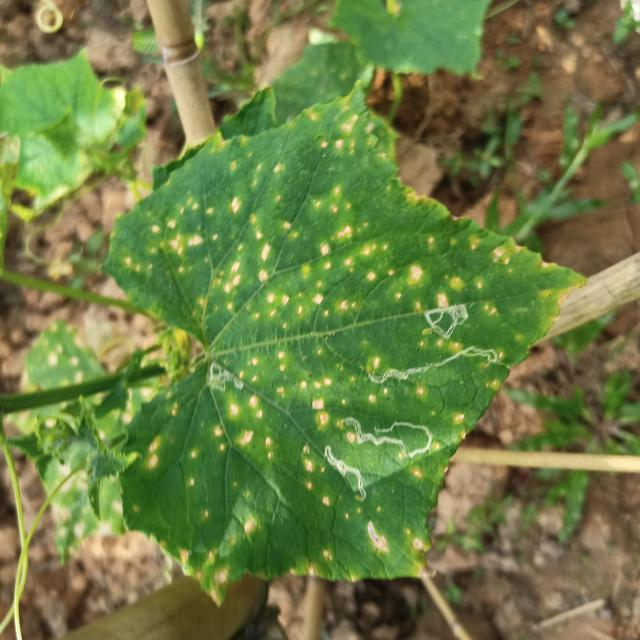disease_cucumber: (134, 131, 558, 345), (165, 392, 277, 498), (240, 346, 339, 439), (178, 513, 257, 610), (344, 505, 434, 560), (340, 377, 434, 414), (296, 442, 334, 512), (288, 543, 334, 584), (145, 433, 163, 478)
